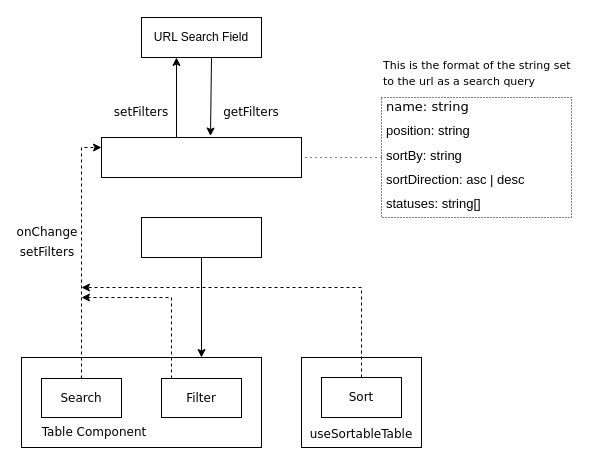
This 589x470 diagram has some shape labels left out. Each missing label, with the centre of its shape:
"App" belongs at point 201,237.
"useNavigatorWithSearch" belongs at point 201,157.
